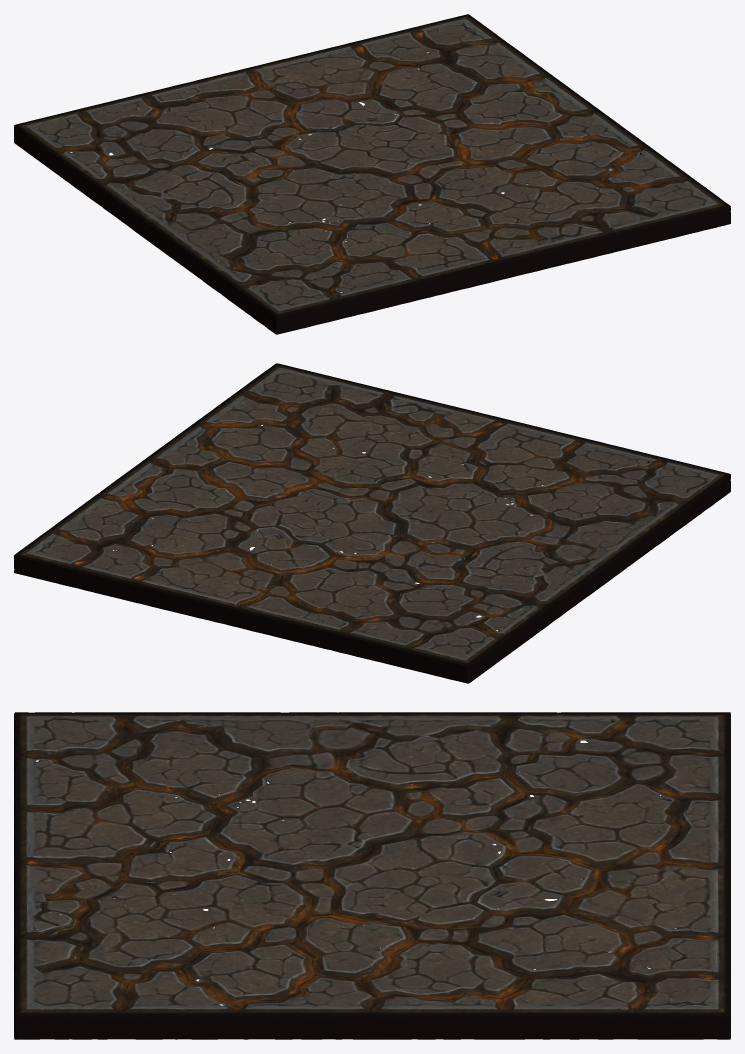
File: HellFloor_EmberFissure_A_UnrealReady.glb
The picture shows the model from 3 angles, top to bottom: view 1: azimuth 30°, elevation 25°; view 2: azimuth 150°, elevation 25°; view 3: azimuth 270°, elevation 25°; orthographic projection. The views are drawn at different scales.
Visible parts, largest first — view 1: HellFloor_EmberFissure_A_UnrealReady; view 2: HellFloor_EmberFissure_A_UnrealReady; view 3: HellFloor_EmberFissure_A_UnrealReady.
Part boxes in pixels (x1,y1,x2,y2): HellFloor_EmberFissure_A_UnrealReady: (14, 14, 730, 334); HellFloor_EmberFissure_A_UnrealReady: (14, 363, 730, 683); HellFloor_EmberFissure_A_UnrealReady: (14, 712, 730, 1039).
Bounding box in the file's own units: 6 × 0.24 × 6.
Materials: 1 (1 with a texture image).
